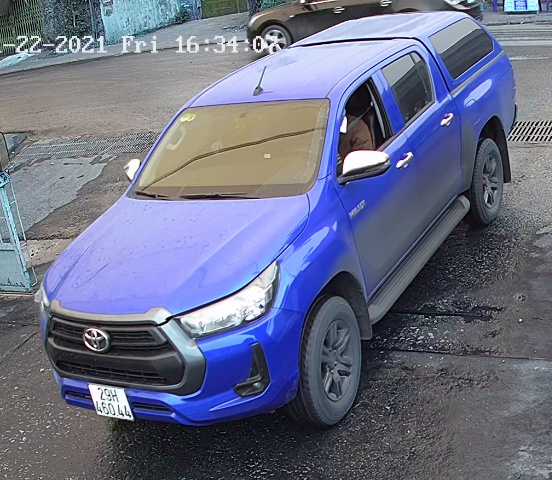vehicle plate: (79, 376, 143, 425)
